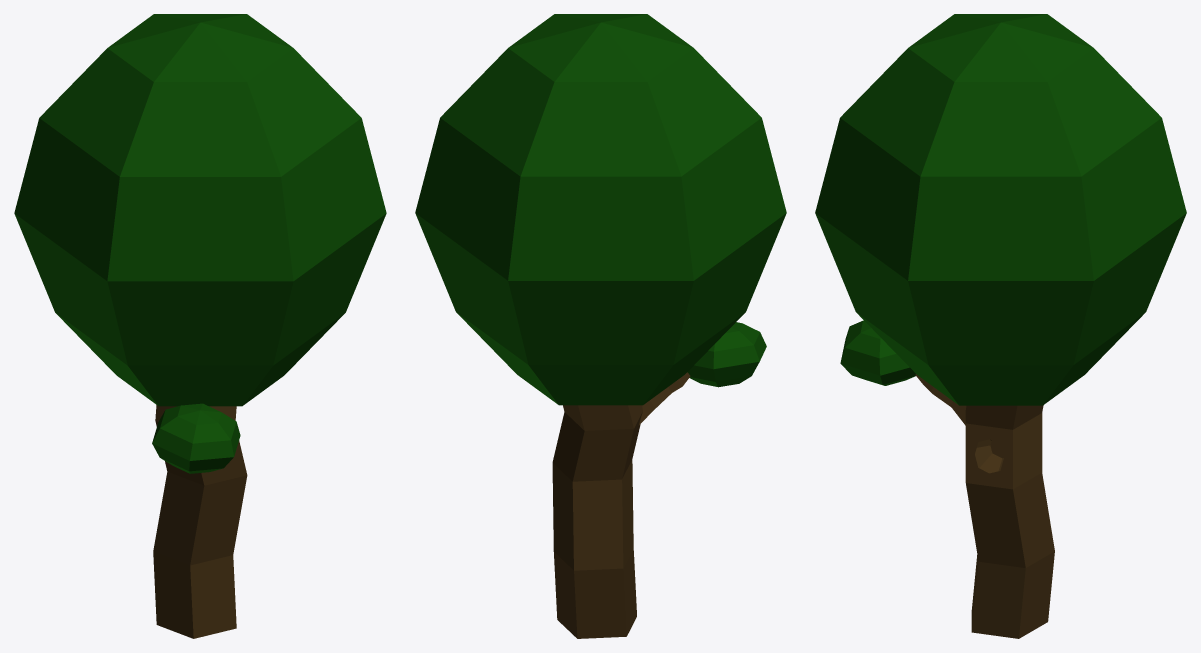
File: Tree2.fbx
3 views of the same model, side by side, from view 1: azimuth 30°, elevation 25°; view 2: azimuth 150°, elevation 25°; view 3: azimuth 270°, elevation 25° (orthographic).
Parts seen in each view (by area): view 1: Sphere, Trunk.001; view 2: Sphere, Trunk.001, Trunk.002; view 3: Sphere, Trunk.001.
Part boxes in pixels (box(x1,y1,x2,y2)): Sphere: box(14, 14, 386, 473); Trunk.001: box(153, 405, 247, 638); Sphere: box(415, 14, 786, 405); Trunk.001: box(552, 405, 642, 638); Trunk.002: box(639, 372, 690, 424); Sphere: box(815, 14, 1186, 405); Trunk.001: box(965, 405, 1054, 638).
Bounding box in the file's own units: 112 × 230 × 129.
